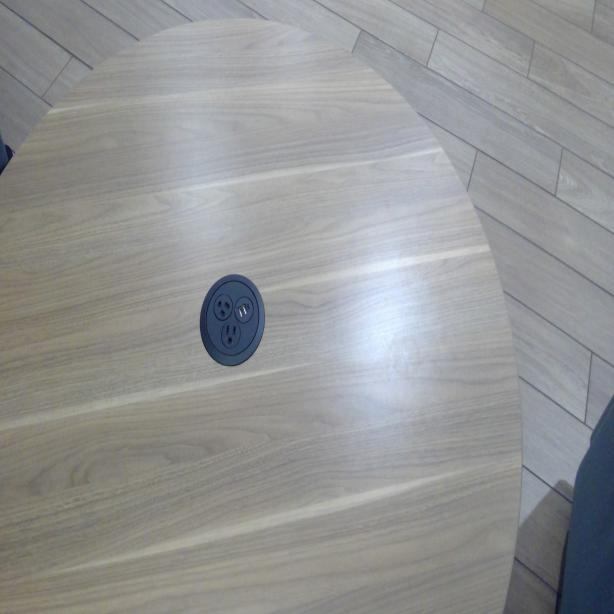typeb: (214, 294, 231, 317), (224, 323, 239, 346)
